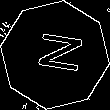N_W: (27, 31, 83, 79)
